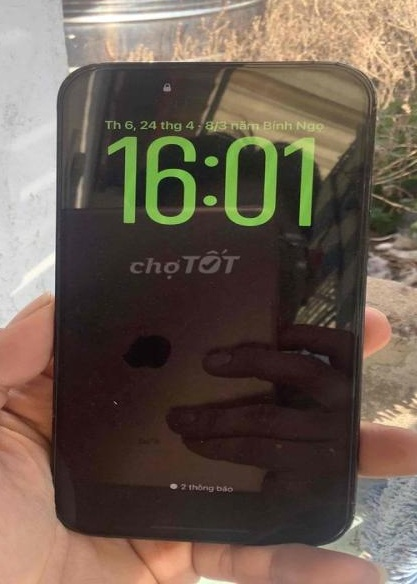scratch: (282, 430, 356, 455), (101, 390, 123, 415)
